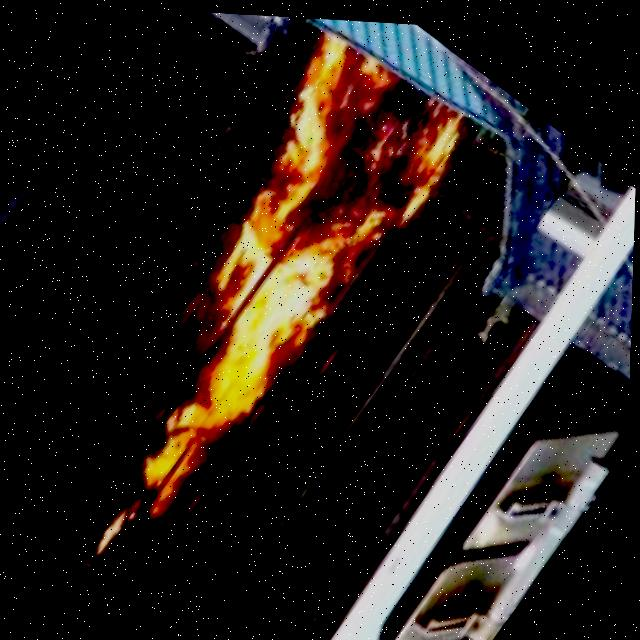Fire: (51, 7, 478, 528)
